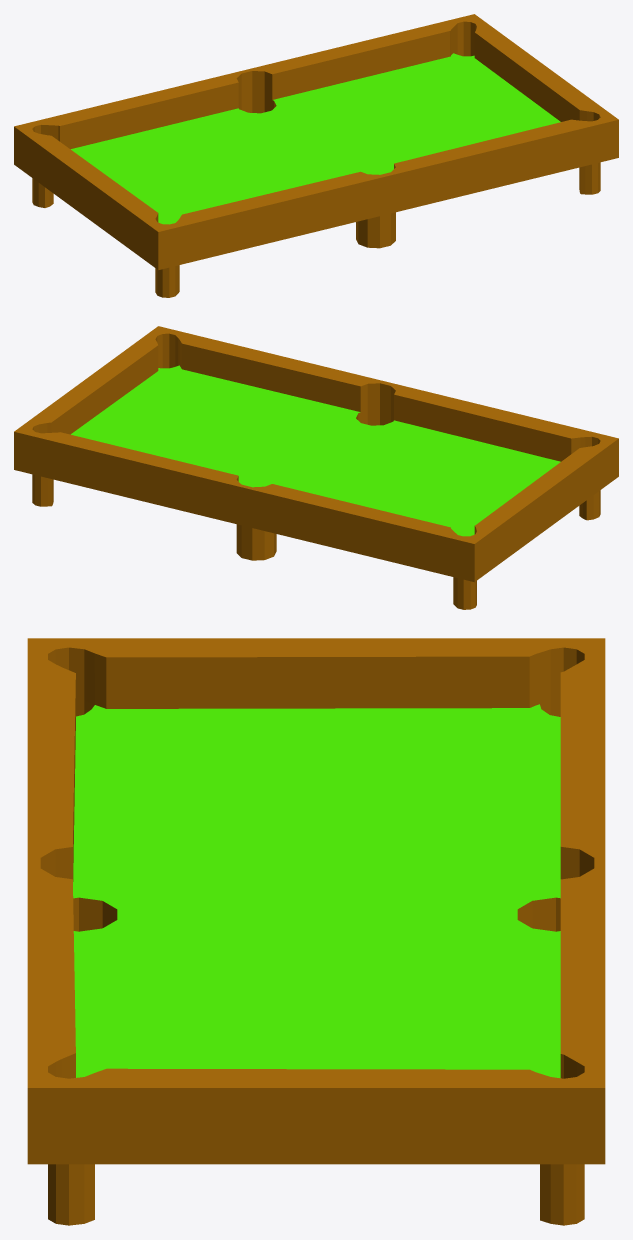
Rendered from Table3.fbx.
3 views of the same model, one above another, from view 1: azimuth 30°, elevation 25°; view 2: azimuth 150°, elevation 25°; view 3: azimuth 270°, elevation 25° (orthographic). The views are drawn at different scales.
Parts seen in each view (by area): view 1: polySurface1; view 2: polySurface1; view 3: polySurface1.
Part boxes in pixels (x1,y1,x2,y2): polySurface1: [14, 14, 618, 297]; polySurface1: [14, 326, 618, 609]; polySurface1: [27, 638, 605, 1225].
Size of the model in its own units: 291 by 44.28 by 158.
